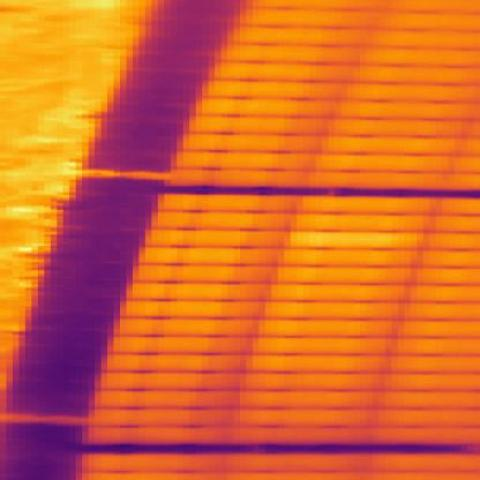fault: (289, 230, 421, 251)
